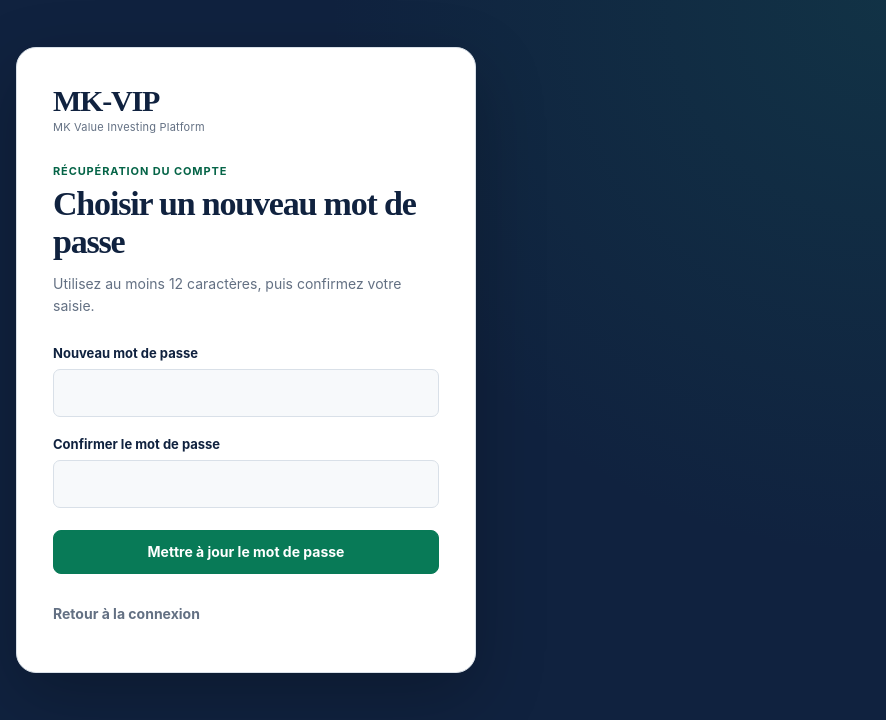
Test: MK-VIP authentication › rejects two different passwords without consuming the reset link
Type "correct horse battery" into the password field labelled "Nouveau mot de passe". click: (246, 393)
box: [53, 369, 439, 417]
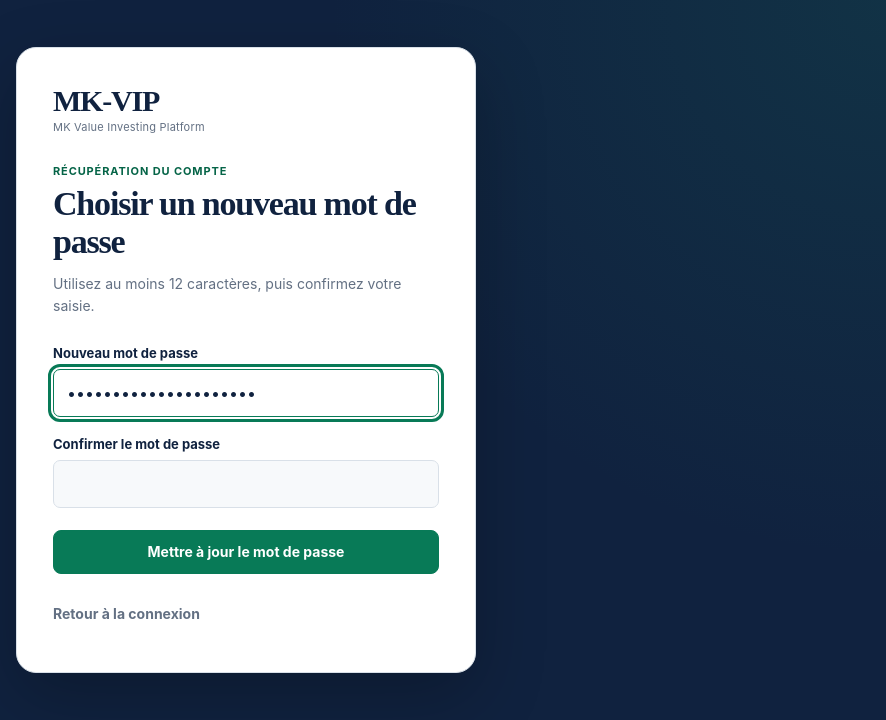
Type "different horse battery" into the password field labelled "Confirmer le mot de passe". click: (246, 484)
box: [53, 460, 439, 508]
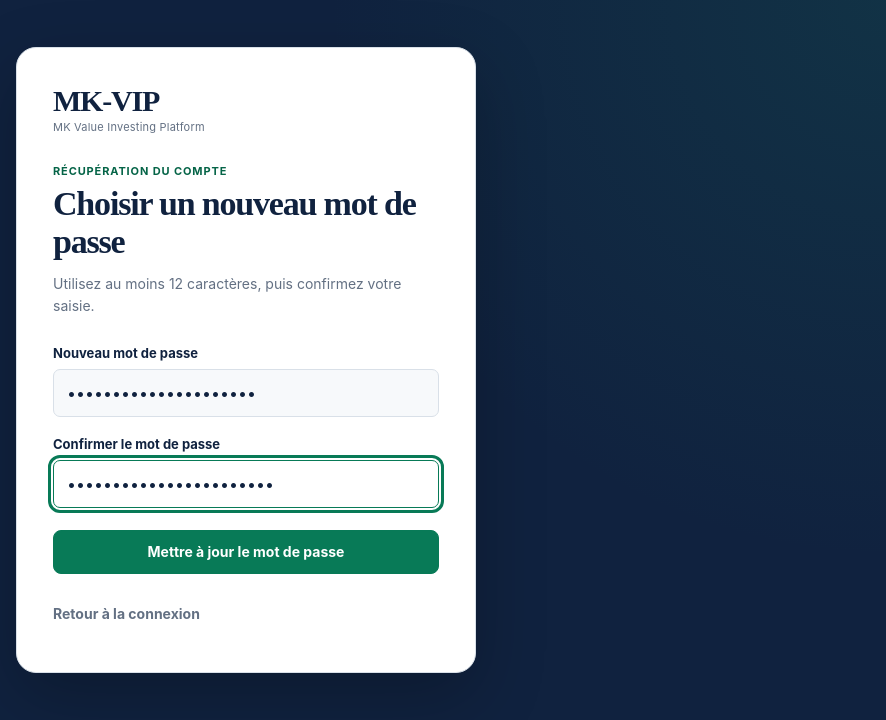
Click the button "Mettre à jour le mot de passe". click: (246, 552)
box: [53, 530, 439, 574]
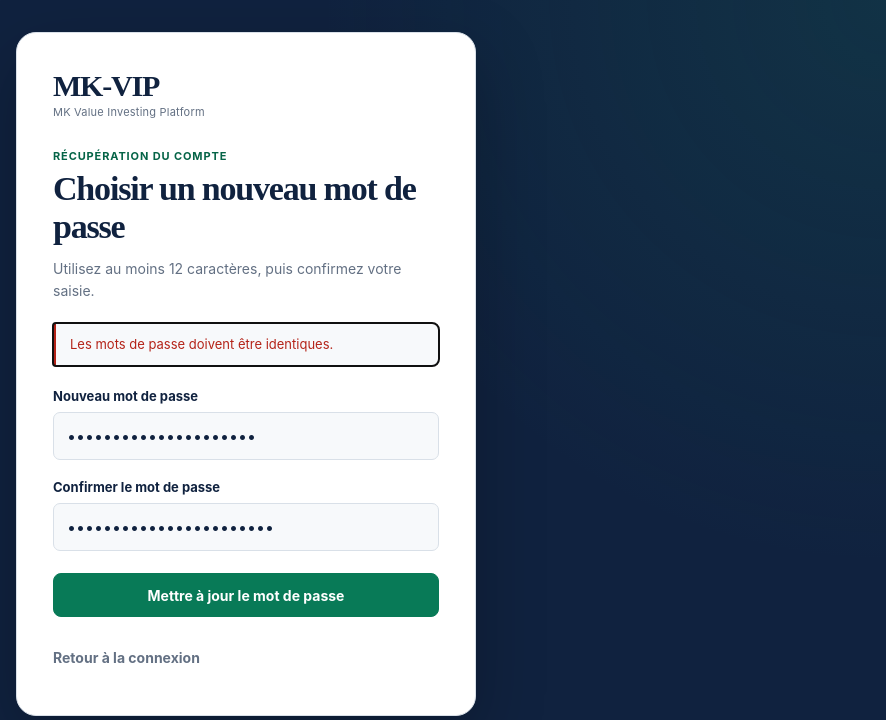
Result: the message reads "Les mots de passe doivent être identiques." at [70, 336, 333, 352]
